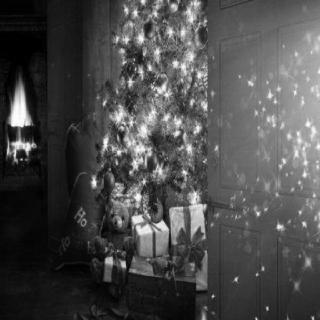other: (108, 13, 208, 197)
